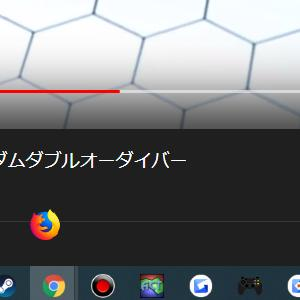firefox: (30, 209, 61, 241)
